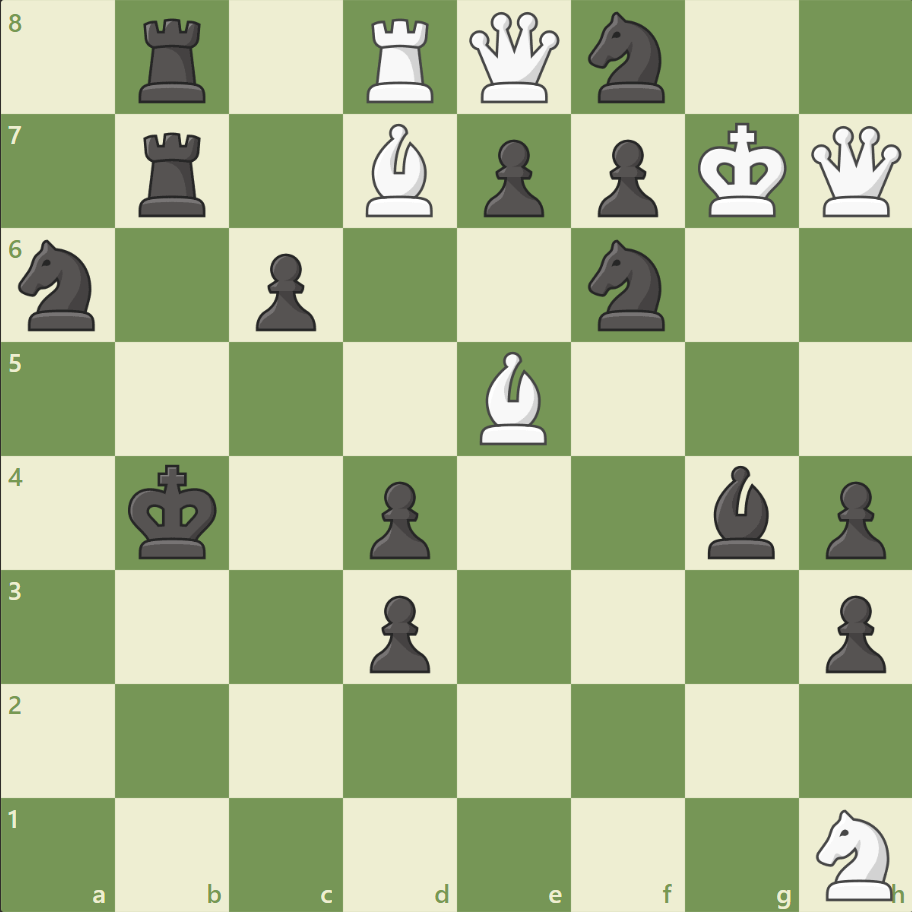B: (358, 120, 442, 222), (471, 347, 555, 449)
K: (692, 117, 792, 225)
N: (806, 802, 903, 904)
Q: (805, 122, 904, 222), (464, 9, 563, 108)
R: (360, 12, 442, 109)
b: (698, 460, 782, 563)
k: (124, 458, 224, 566)
n: (579, 7, 676, 110), (11, 234, 108, 337), (579, 234, 676, 337)
p: (474, 132, 549, 223), (247, 246, 322, 337), (588, 132, 662, 223), (361, 473, 435, 564), (815, 473, 889, 564), (361, 586, 435, 677), (815, 586, 889, 677)
r: (133, 12, 215, 109), (133, 125, 215, 222)
